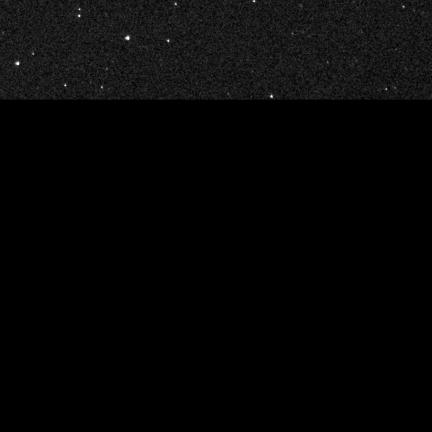blob: (15, 62, 20, 66), (125, 36, 129, 40), (270, 95, 274, 99), (167, 40, 171, 43), (64, 84, 67, 87), (78, 15, 81, 18), (386, 88, 388, 91), (101, 86, 103, 89)
